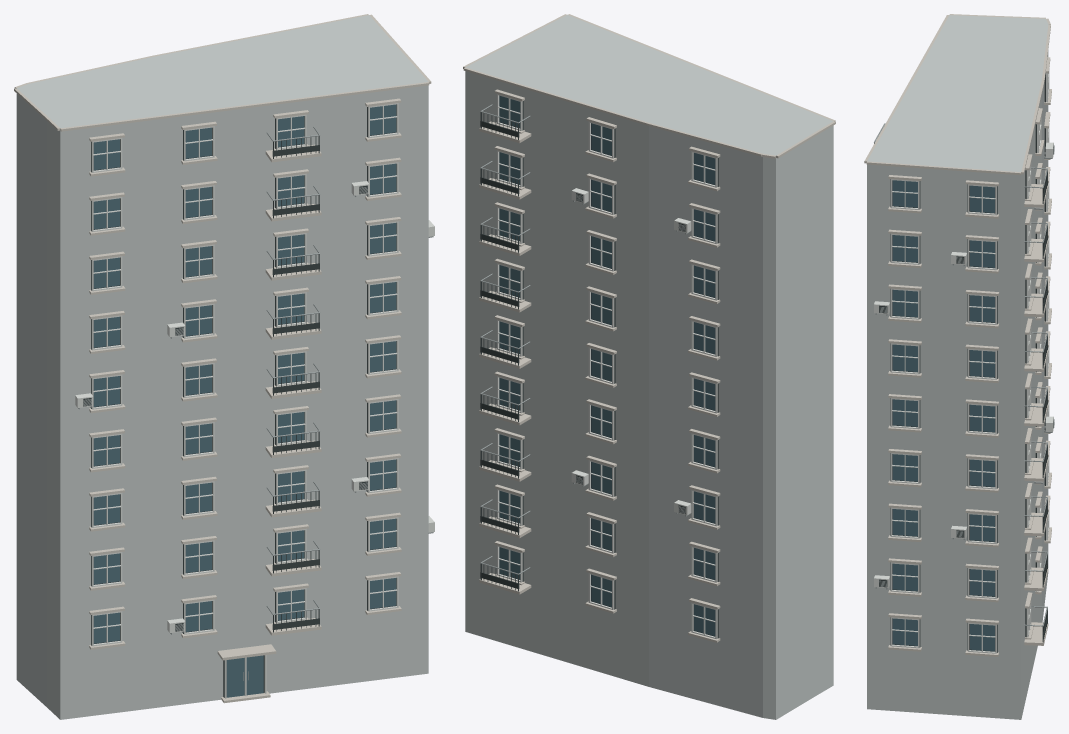
The model's file is completion-736721581.glb.
3 views of the same model, side by side, from view 1: azimuth 30°, elevation 25°; view 2: azimuth 150°, elevation 25°; view 3: azimuth 270°, elevation 25° (orthographic). The views are drawn at different scales.
Visible parts, largest first — view 1: 736721581 Block 736721581 mineral plaster, 736721581 glass, 736721581 stone, 736721581 frame, 736721581 dark, 736721581 steel; view 2: 736721581 Block 736721581 mineral plaster, 736721581 glass, 736721581 stone, 736721581 frame, 736721581 dark, 736721581 steel; view 3: 736721581 Block 736721581 mineral plaster, 736721581 stone, 736721581 glass, 736721581 frame, 736721581 dark, 736721581 steel.
Boxes of the visible parts, <box> form: 736721581 Block 736721581 mineral plaster: <box>16,15,428,719</box>; 736721581 glass: <box>93,104,396,697</box>; 736721581 stone: <box>14,14,431,703</box>; 736721581 frame: <box>75,103,434,698</box>; 736721581 dark: <box>83,104,396,697</box>; 736721581 steel: <box>78,126,433,680</box>; 736721581 Block 736721581 mineral plaster: <box>465,15,833,719</box>; 736721581 glass: <box>499,95,715,636</box>; 736721581 stone: <box>463,14,835,642</box>; 736721581 frame: <box>497,94,717,638</box>; 736721581 dark: <box>480,101,718,638</box>; 736721581 steel: <box>480,104,690,574</box>; 736721581 Block 736721581 mineral plaster: <box>867,15,1048,719</box>; 736721581 stone: <box>864,14,1051,656</box>; 736721581 glass: <box>892,180,994,651</box>; 736721581 frame: <box>874,70,1053,653</box>; 736721581 dark: <box>874,73,1053,652</box>; 736721581 steel: <box>874,123,1054,626</box>.
Size of the model in its own units: 19.95 by 32 by 10.06.
